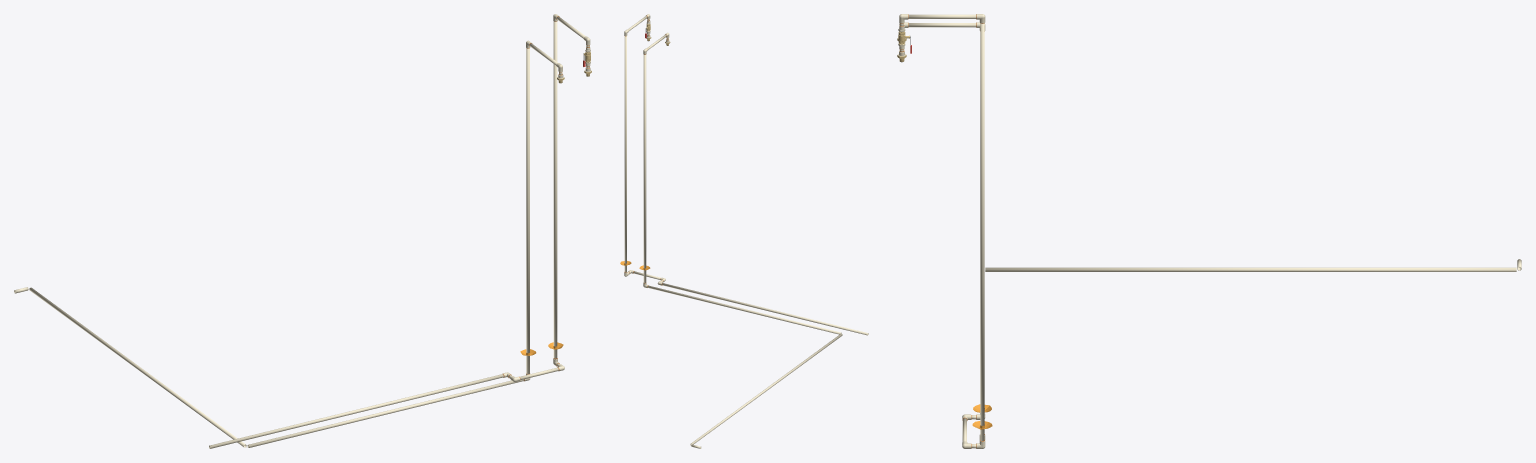
Rendered from pipes_supply__water_heater-closet_gas_tank+closet_electric_tank_and_plumbing-cpvc__r4y.glb.
The picture shows the model from 3 angles, left to right: view 1: azimuth 30°, elevation 25°; view 2: azimuth 150°, elevation 25°; view 3: azimuth 270°, elevation 25°; orthographic projection. The views are drawn at different scales.
Visible parts, largest first — view 1: pipe_supply_hot_wh_closet, pipe_supply_cold_wh_closet; view 2: pipe_supply_hot_wh_closet, pipe_supply_cold_wh_closet; view 3: pipe_supply_hot_wh_closet, pipe_supply_cold_wh_closet.
Part boxes in pixels (bbox=[...]): pipe_supply_hot_wh_closet: bbox=[14, 43, 562, 447]; pipe_supply_cold_wh_closet: bbox=[209, 16, 589, 448]; pipe_supply_hot_wh_closet: bbox=[643, 34, 842, 448]; pipe_supply_cold_wh_closet: bbox=[624, 16, 868, 335]; pipe_supply_hot_wh_closet: bbox=[908, 23, 1521, 271]; pipe_supply_cold_wh_closet: bbox=[899, 14, 984, 448].
Bounding box in the file's own units: 2.58 × 2.51 × 3.19.
